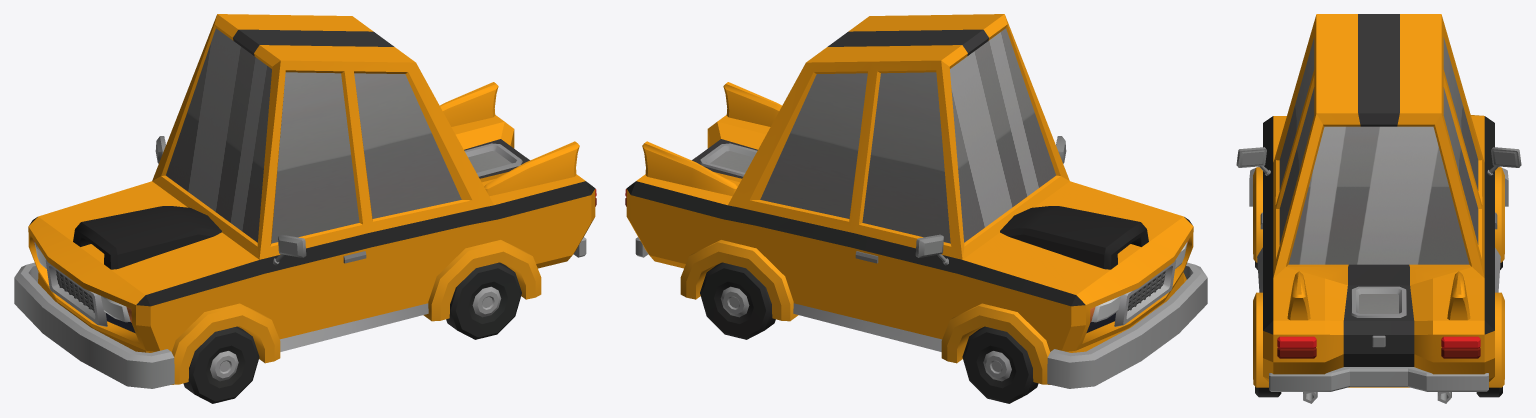
The model's file is Car_11_B.gltf.
The picture shows the model from 3 angles, left to right: view 1: azimuth 30°, elevation 25°; view 2: azimuth 150°, elevation 25°; view 3: azimuth 270°, elevation 25°; orthographic projection.
Visible parts, largest first — view 1: Car_11_B, RL, FL; view 2: Car_11_B, RR, FR; view 3: Car_11_B.
Boxes of the visible parts, bbox=[...] form: Car_11_B: bbox=[14, 14, 596, 388]; RL: bbox=[446, 262, 521, 339]; FL: bbox=[183, 326, 259, 403]; Car_11_B: bbox=[625, 14, 1207, 388]; RR: bbox=[700, 262, 775, 339]; FR: bbox=[962, 326, 1038, 403]; Car_11_B: bbox=[1236, 14, 1521, 403].
Size of the model in its own units: 3.58 by 2.1 by 1.85.
3 materials, 3 textured.
